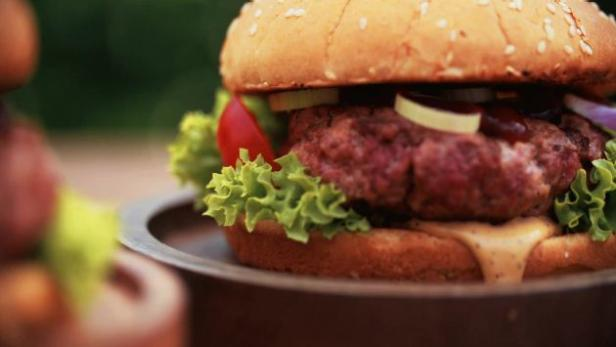hamburger: (180, 1, 616, 282)
